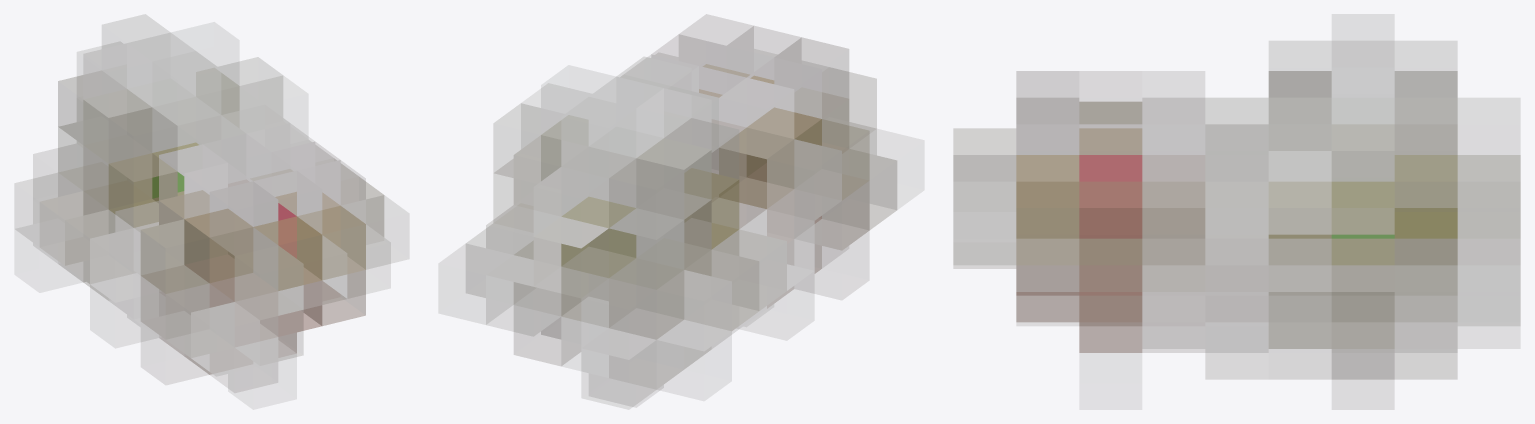
Rendered from iter_5.obj.
The picture shows the model from 3 angles, left to right: view 1: azimuth 30°, elevation 25°; view 2: azimuth 150°, elevation 25°; view 3: azimuth 270°, elevation 25°; orthographic projection. The views are drawn at different scales.
Visible parts, largest first — view 1: iter_5; view 2: iter_5; view 3: iter_5.
Boxes of the visible parts, <box> form: iter_5: <box>15,32,390,392</box>; iter_5: <box>465,26,897,406</box>; iter_5: <box>953,41,1520,379</box>.
Bounding box in the file's own units: 0.5 × 0.6 × 0.9.
